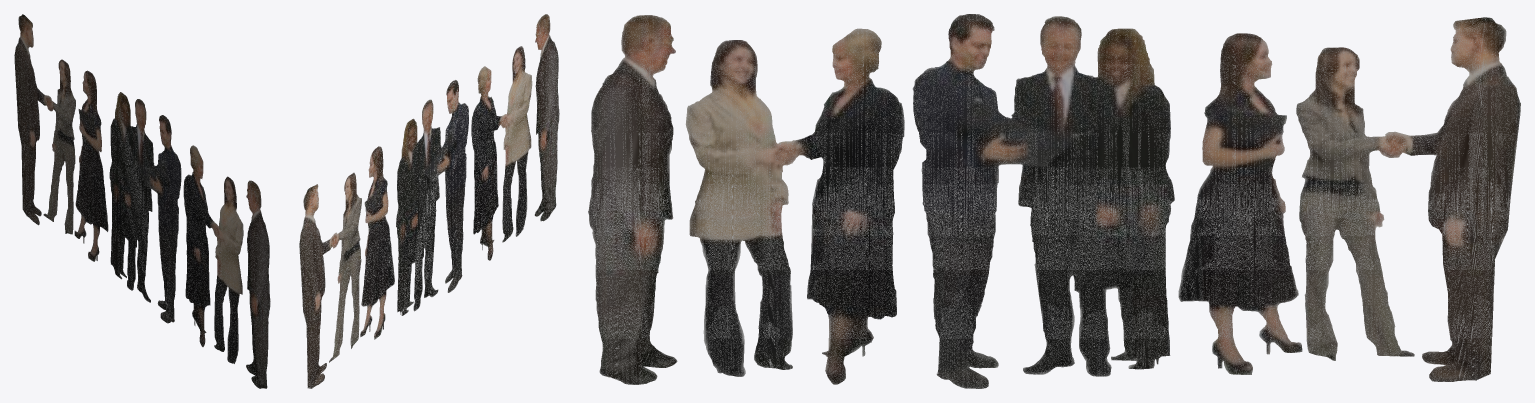
The picture shows the model from 3 angles, left to right: view 1: azimuth 30°, elevation 25°; view 2: azimuth 150°, elevation 25°; view 3: azimuth 270°, elevation 25°; orthographic projection. The views are drawn at different scales.
Parts seen in each view (by area): view 1: SketchUp; view 2: SketchUp; view 3: SketchUp.
Boxes of the visible parts, x1,y1,x2,y2 form: SketchUp: (14,14,270,388); SketchUp: (299,14,559,388); SketchUp: (588,14,1520,388).
Bounding box in the file's own units: 0 × 74.07 × 167.
2 materials, 1 textured.
